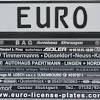E: (16, 5, 32, 30)
O: (73, 6, 88, 30)
R: (54, 6, 69, 29)
U: (35, 6, 51, 29)
